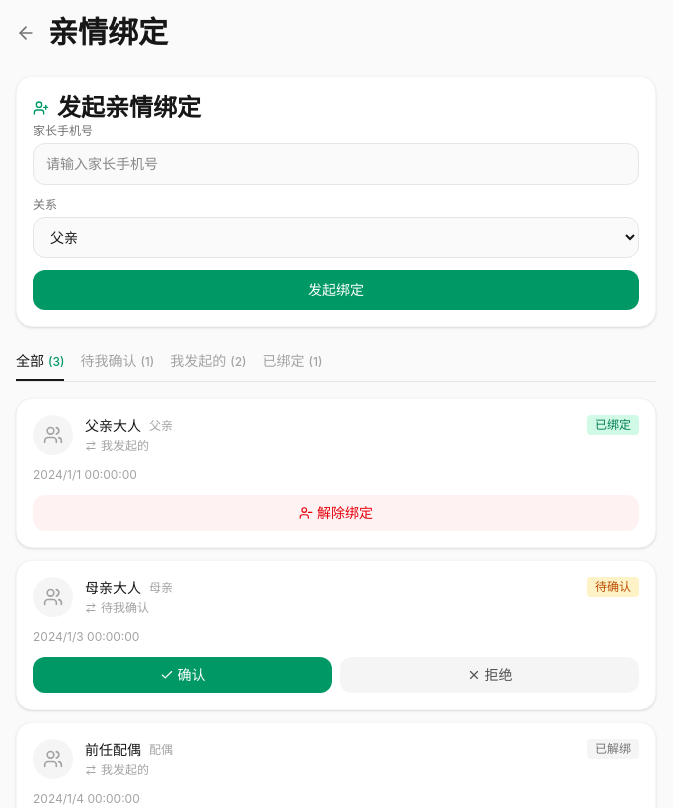
Test: FamilyBinding 状态展示与操作 › 点击"全部/已绑定"Tab 切换筛选
This screenshot has width=673, height=808.
expect the text "父亲大人" is shown: met, box [85,416,141,436]
expect the text "母亲大人" is shown: met, box [85,578,141,598]
点击"已绑定"Tab：仅 confirmed 状态的绑定可见
Click the button "已绑定(1)". click: (292, 366)
box: [262,350,322,380]
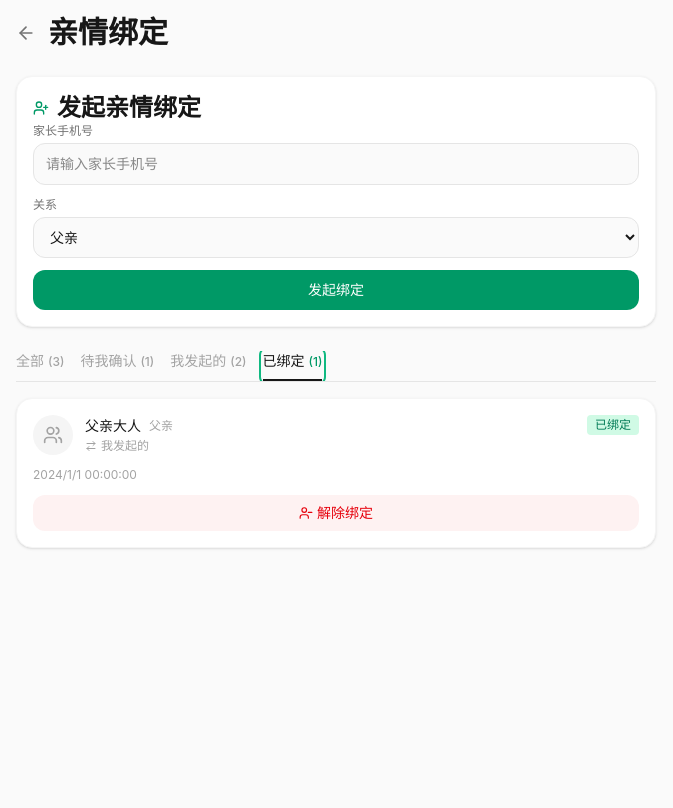
expect the text "父亲大人" is shown: met, box [85,416,141,436]
expect the text "母亲大人" is gone: met
expect the text "前任配偶" is gone: met
